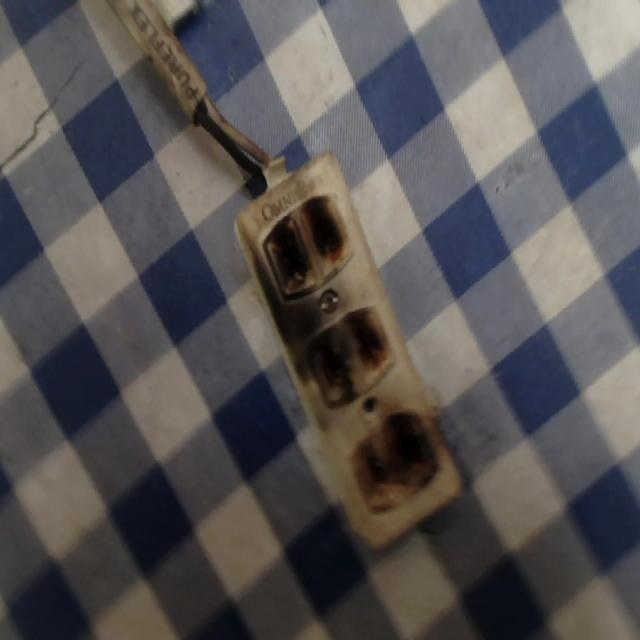-: (261, 191, 353, 301), (347, 407, 441, 512), (302, 298, 392, 406)
